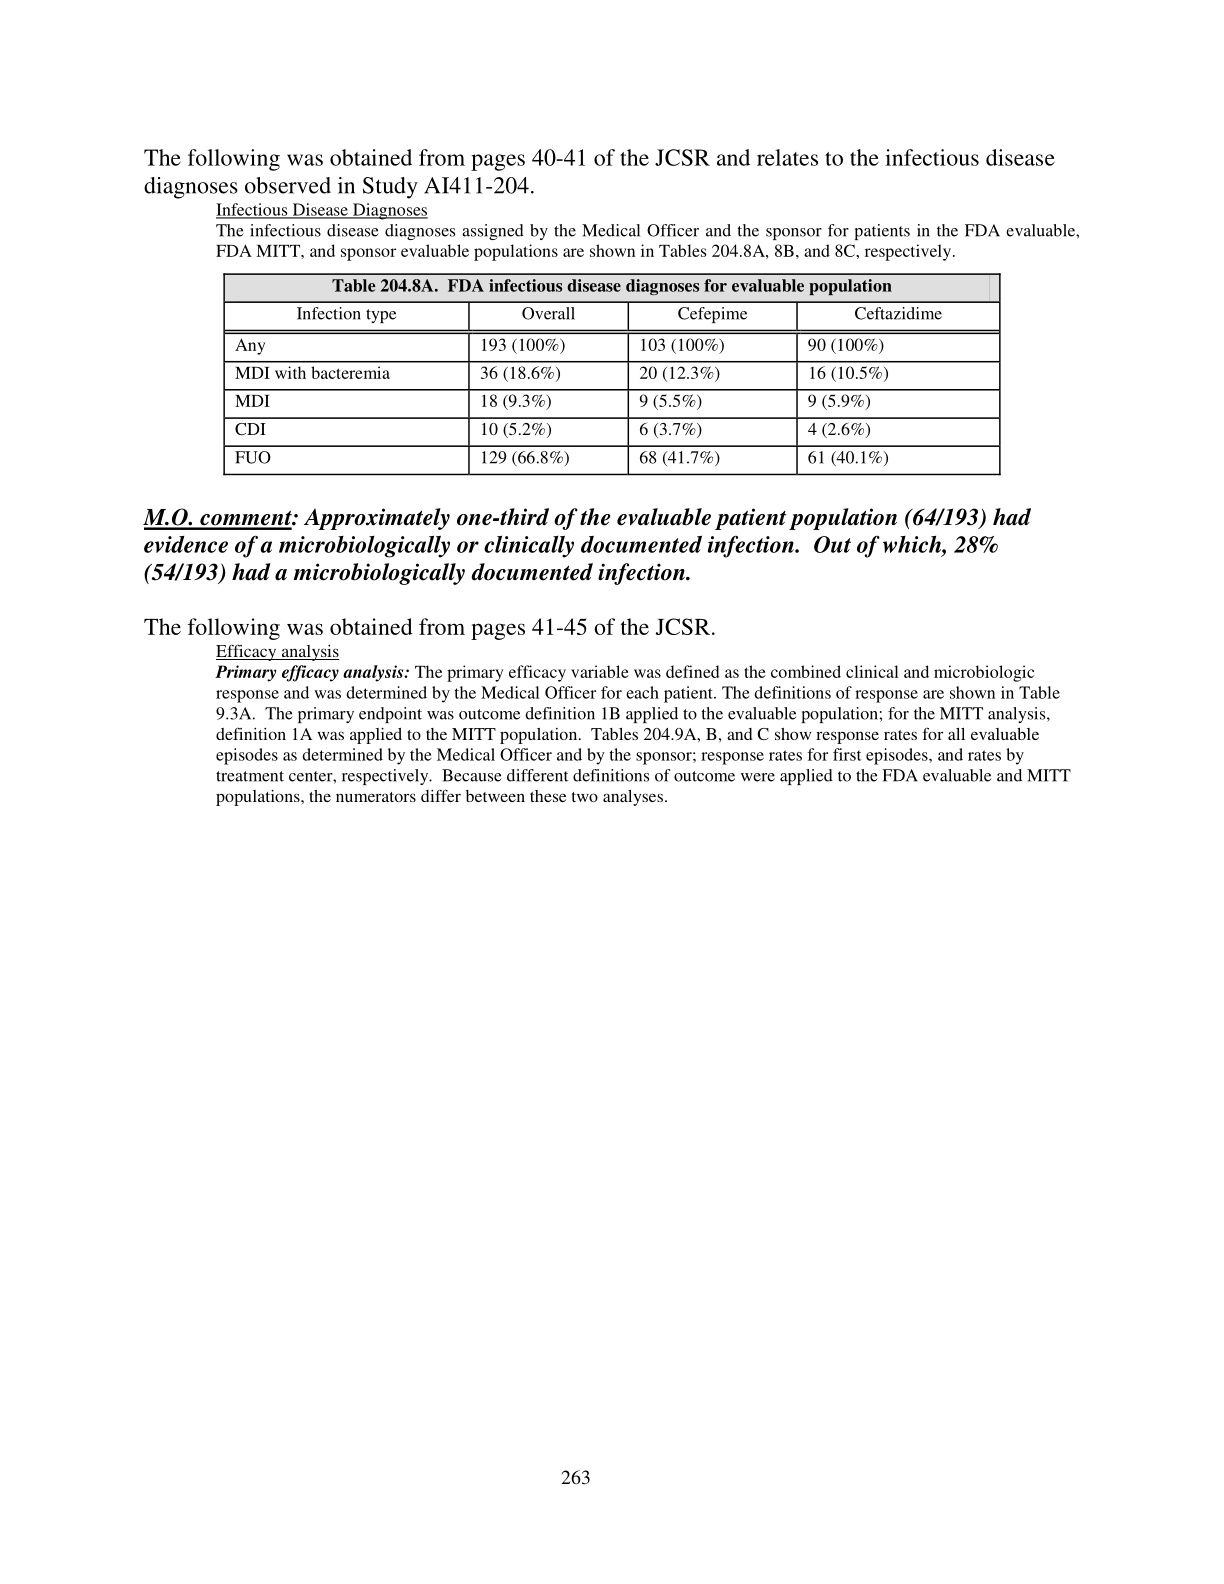merged_cells: (222, 273, 1002, 476)
